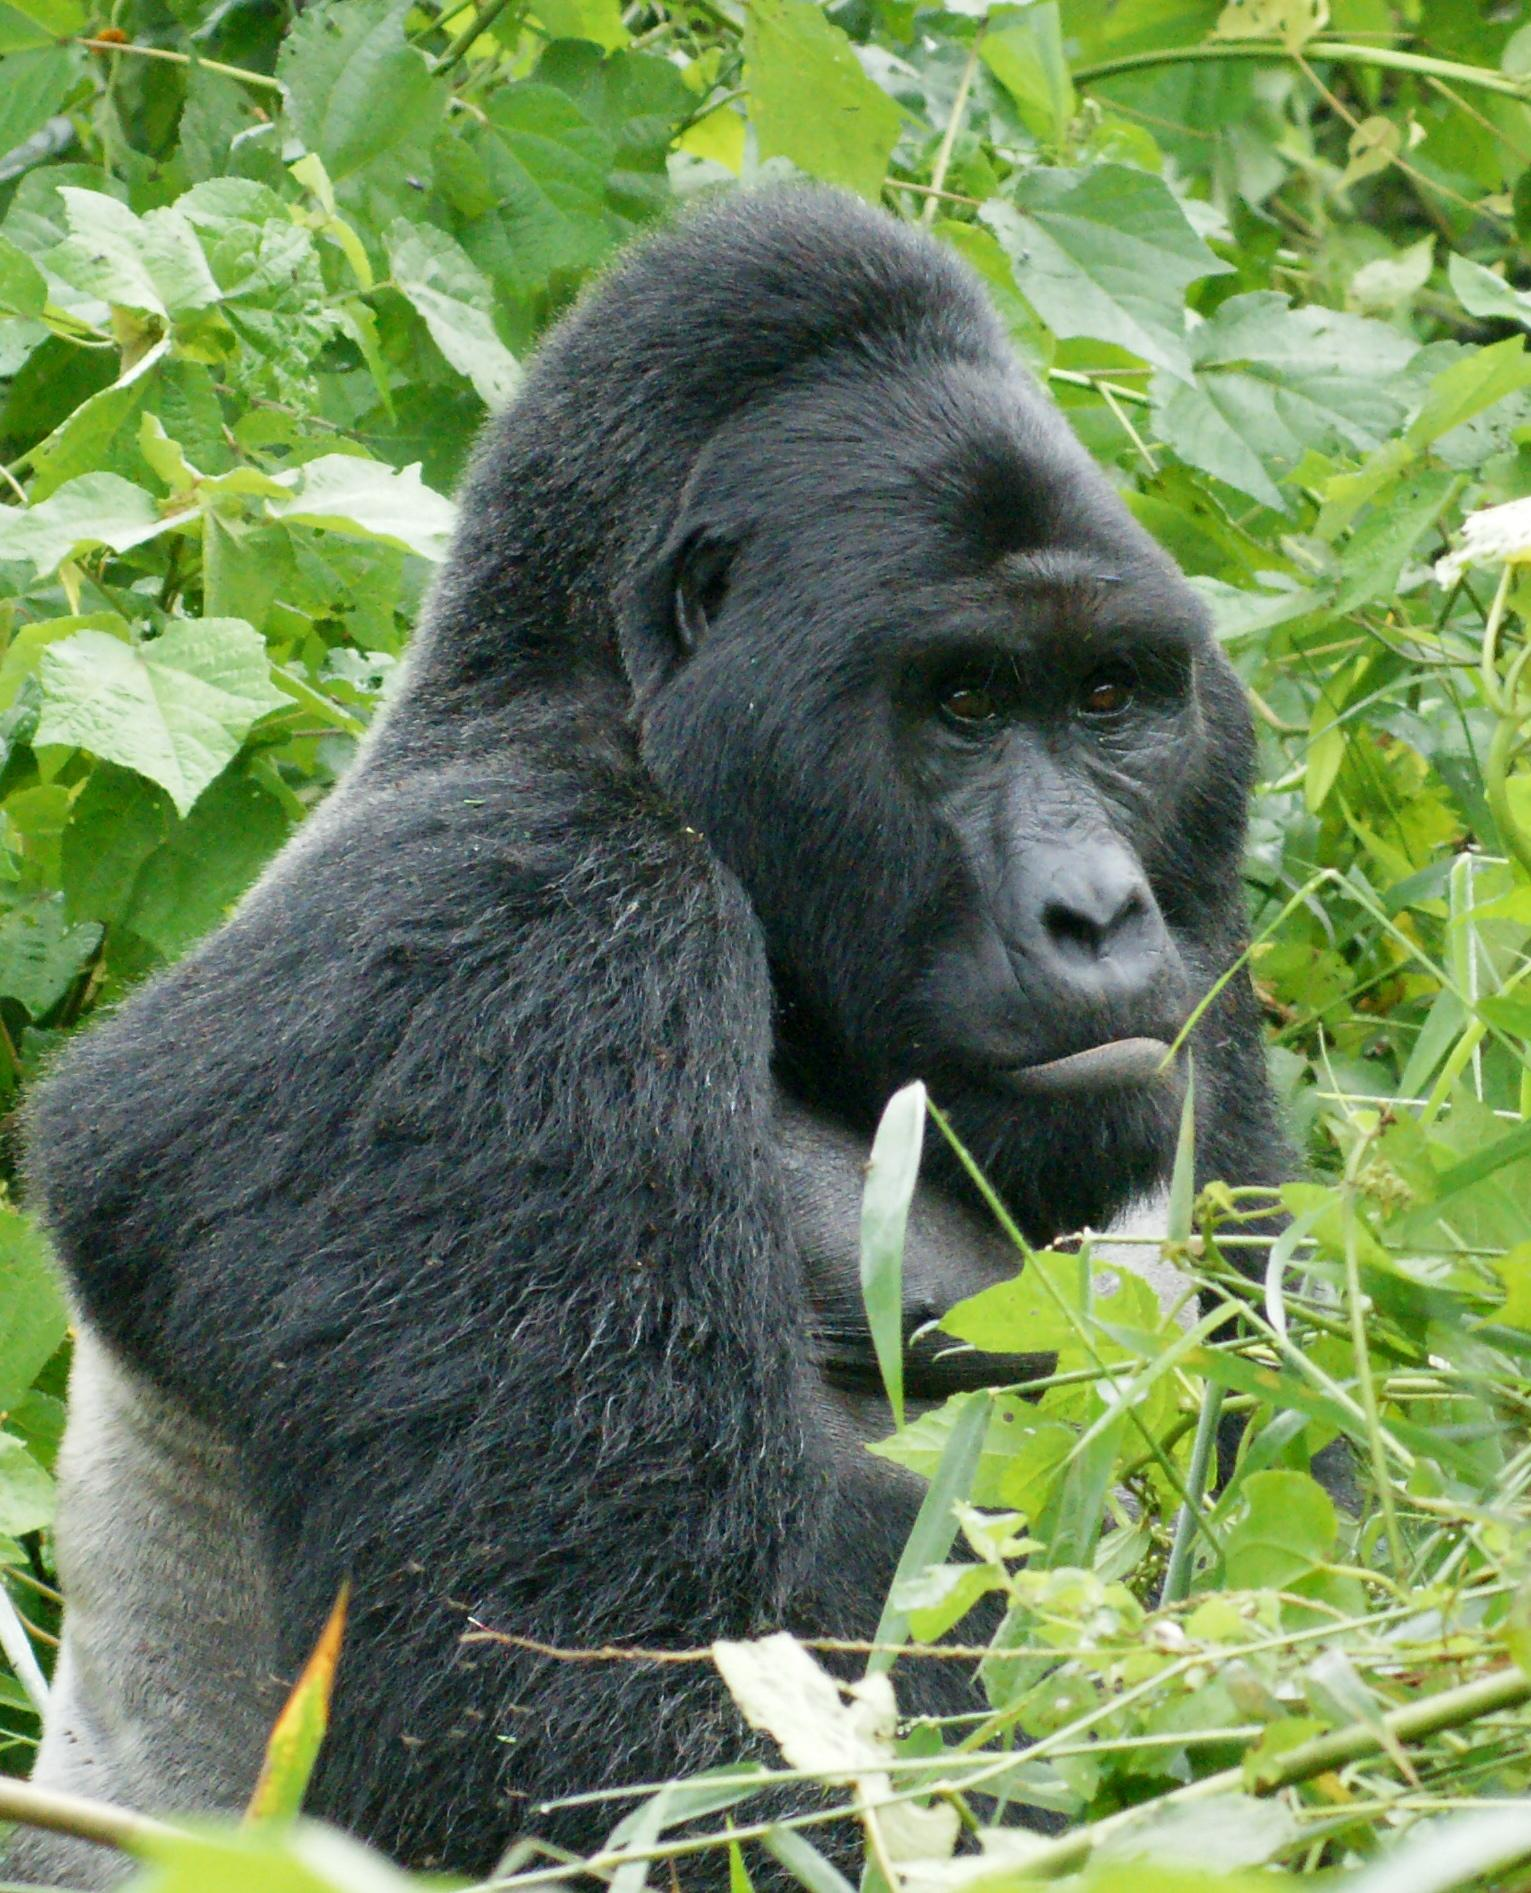goriile_montagne: (9, 147, 1531, 1866)
